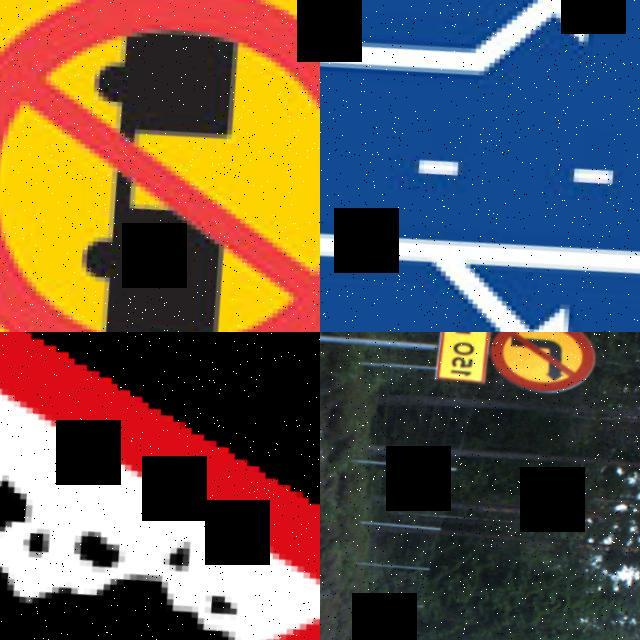181: (427, 332, 496, 396)
36: (477, 332, 603, 412)
65: (320, 0, 640, 332)
82: (0, 0, 320, 332)
Falling rocks: (0, 332, 320, 640)
